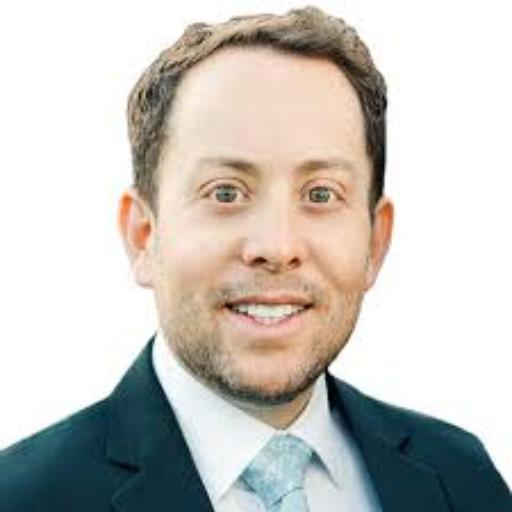left_eye: (300, 185, 347, 209)
left_lip_corner: (302, 299, 325, 316)
right_eye: (196, 182, 254, 208)
right_lip_corner: (213, 298, 243, 321)
